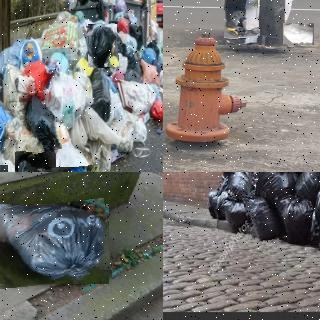Garbage: (0, 201, 111, 286), (22, 91, 59, 154), (244, 189, 285, 243), (274, 192, 313, 243), (223, 0, 259, 38), (87, 24, 118, 68), (223, 198, 255, 230), (256, 172, 297, 195), (14, 151, 55, 172), (283, 23, 314, 46), (227, 172, 254, 198), (297, 172, 320, 188)
